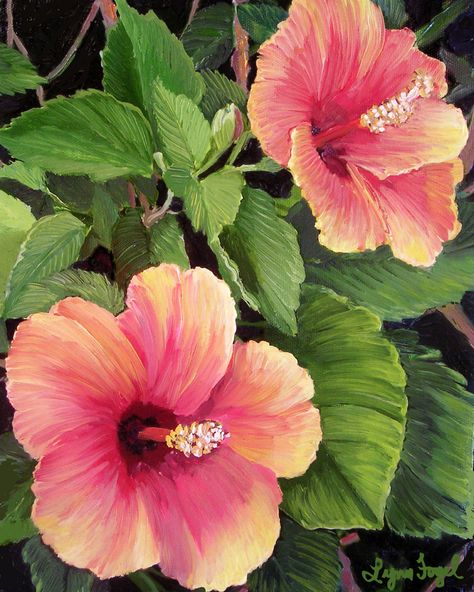Hibiscus: (12, 261, 320, 584), (237, 4, 470, 266)
